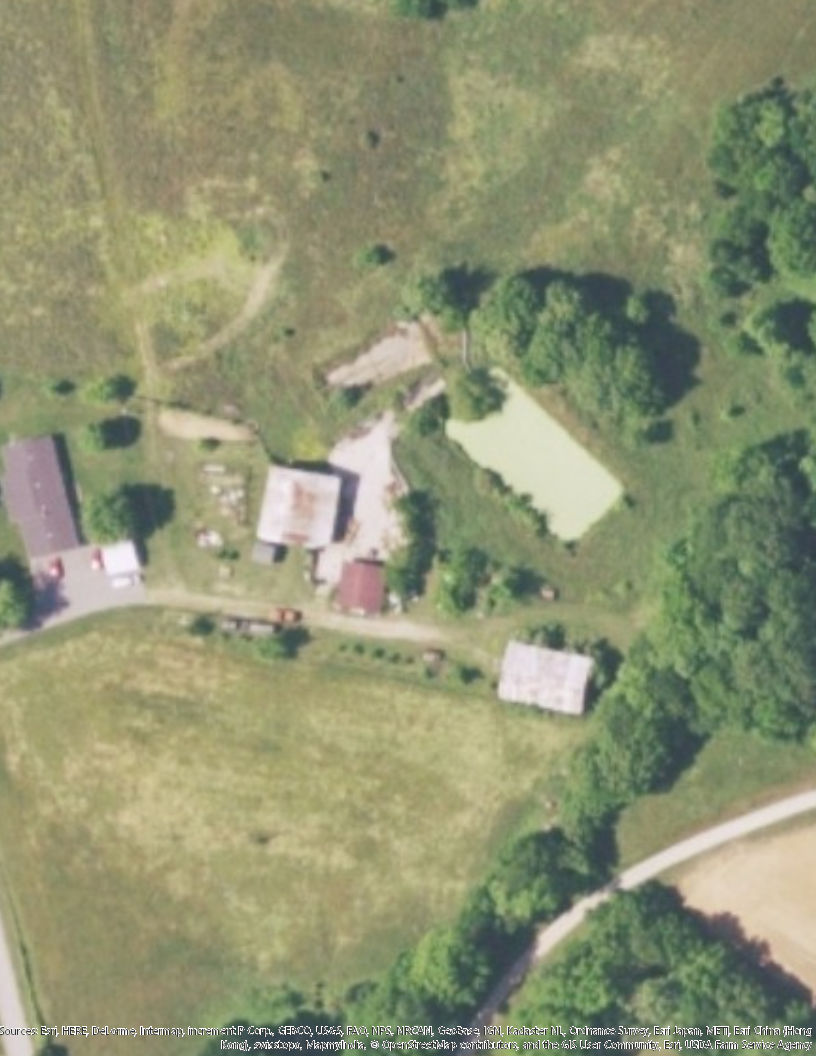cafo: (251, 458, 353, 560), (490, 634, 602, 721)
